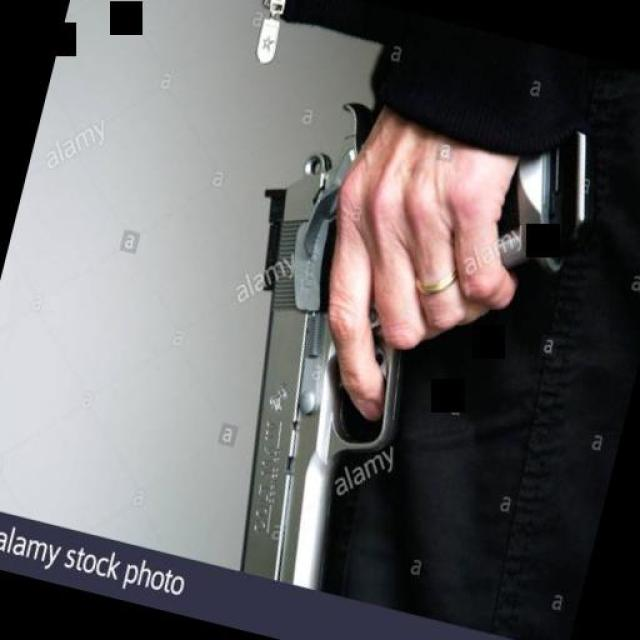gun: (173, 32, 625, 632)
